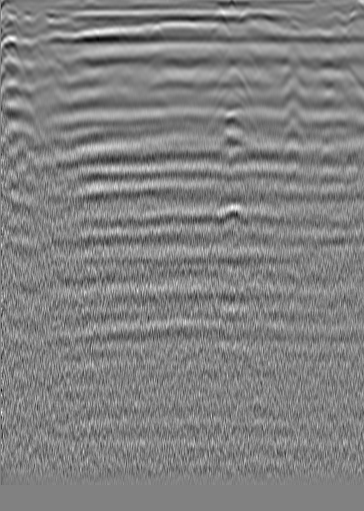가스: (212, 107, 257, 159)
상수: (329, 5, 349, 25)
오수: (18, 11, 38, 31)
우수: (166, 21, 186, 41)
